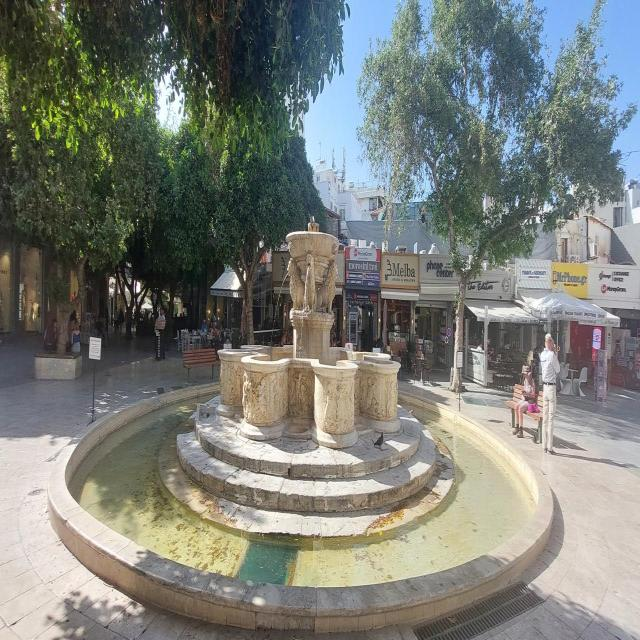Liontaria: (218, 226, 405, 454)
